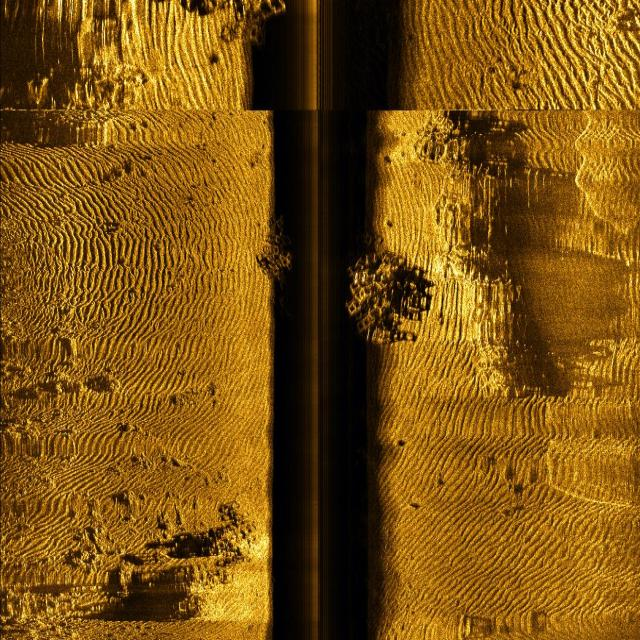artificial reef: (335, 233, 430, 369), (246, 188, 302, 291)
